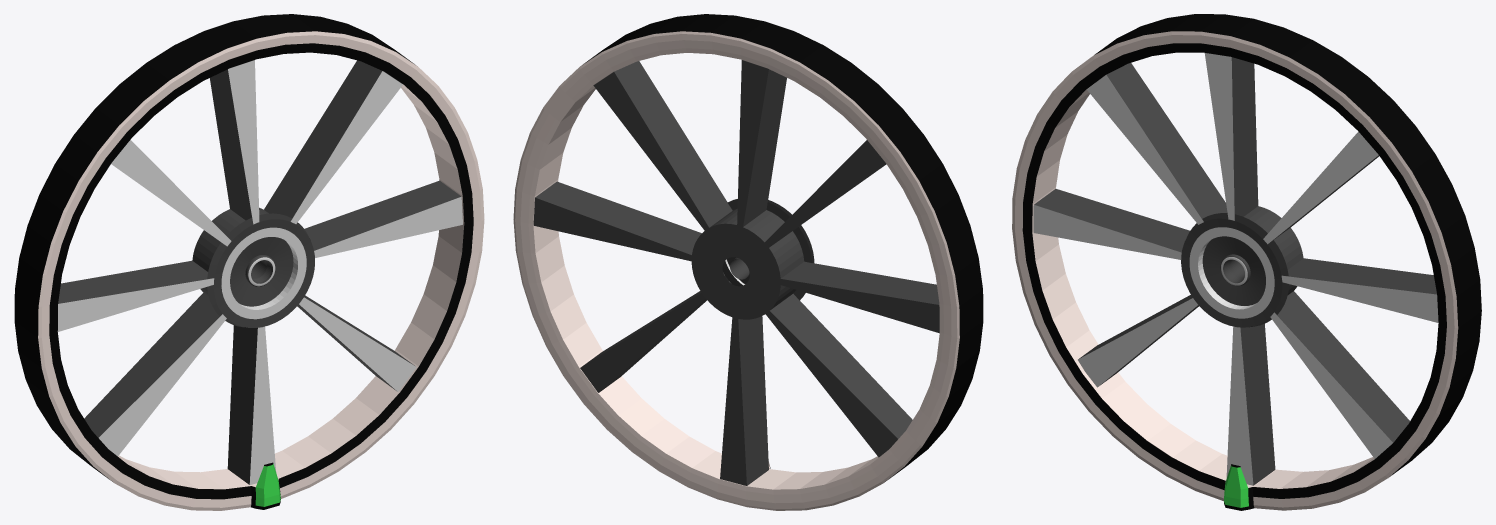
File: Level4Wheell.fbx
3 renders of one model, left to right at view 1: azimuth 30°, elevation 25°; view 2: azimuth 150°, elevation 25°; view 3: azimuth 330°, elevation 25°, orthographic.
Parts seen in each view (by area): view 1: WheelObj; view 2: WheelObj; view 3: WheelObj.
Boxes of the visible parts, <box> form: WheelObj: <box>14,14,484,510</box>; WheelObj: <box>513,14,983,510</box>; WheelObj: <box>1012,14,1481,510</box>.
Bounding box in the file's own units: 200 × 200 × 23.88.
